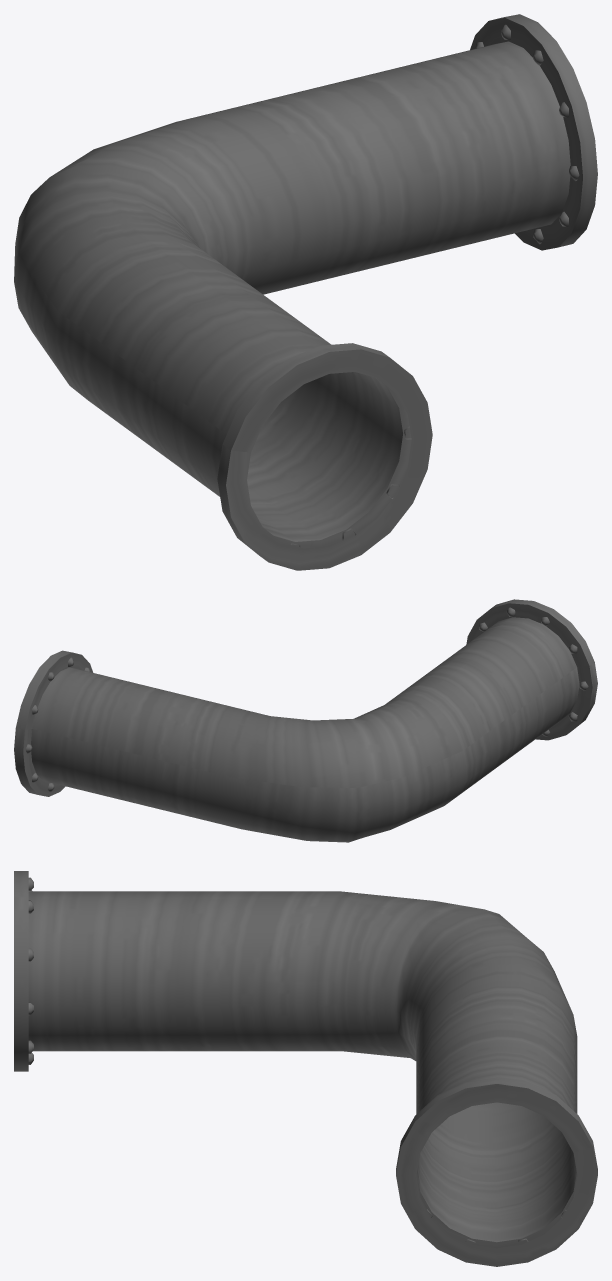
File: curved-pipe.glb
3 renders of one model, top to bottom at view 1: azimuth 30°, elevation 25°; view 2: azimuth 150°, elevation 25°; view 3: azimuth 270°, elevation 25°, orthographic. The views are drawn at different scales.
Visible parts, largest first — view 1: Curved_Pipe; view 2: Curved_Pipe; view 3: Curved_Pipe.
Boxes of the visible parts, x1,y1,x2,y2 form: Curved_Pipe: (14,14,597,570); Curved_Pipe: (14,599,597,842); Curved_Pipe: (14,871,597,1266).
Size of the model in its own units: 1.81 by 0.6275 by 1.81.
1 material, 1 textured.
